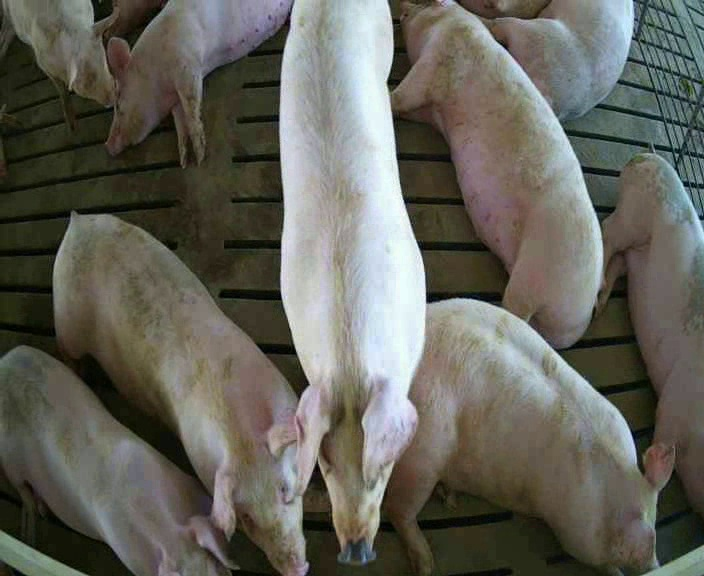pig: (53, 213, 307, 573), (280, 2, 424, 563), (386, 299, 676, 575), (392, 2, 602, 346), (597, 153, 703, 515), (106, 2, 291, 166), (476, 2, 633, 120)
